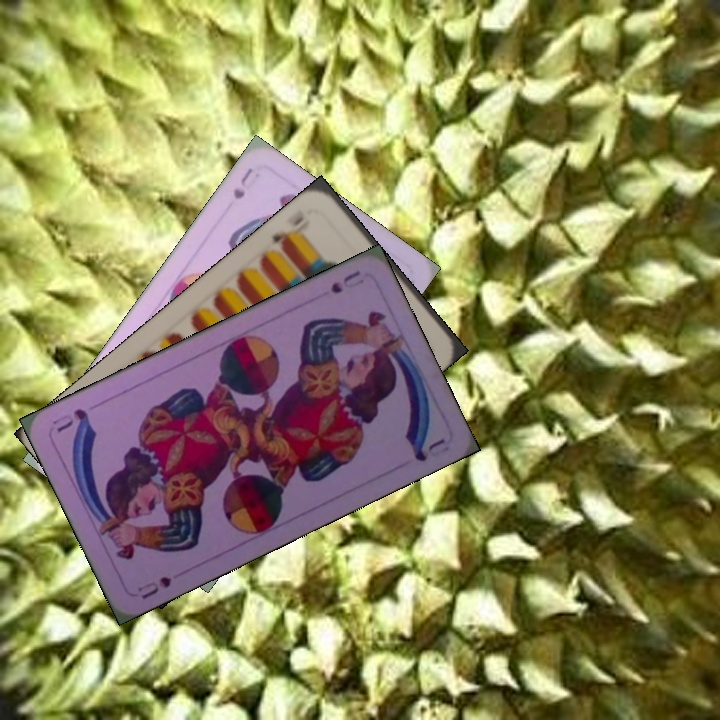E10: (267, 212, 313, 252)
SU: (326, 266, 367, 296), (133, 572, 174, 602), (228, 163, 256, 202)
